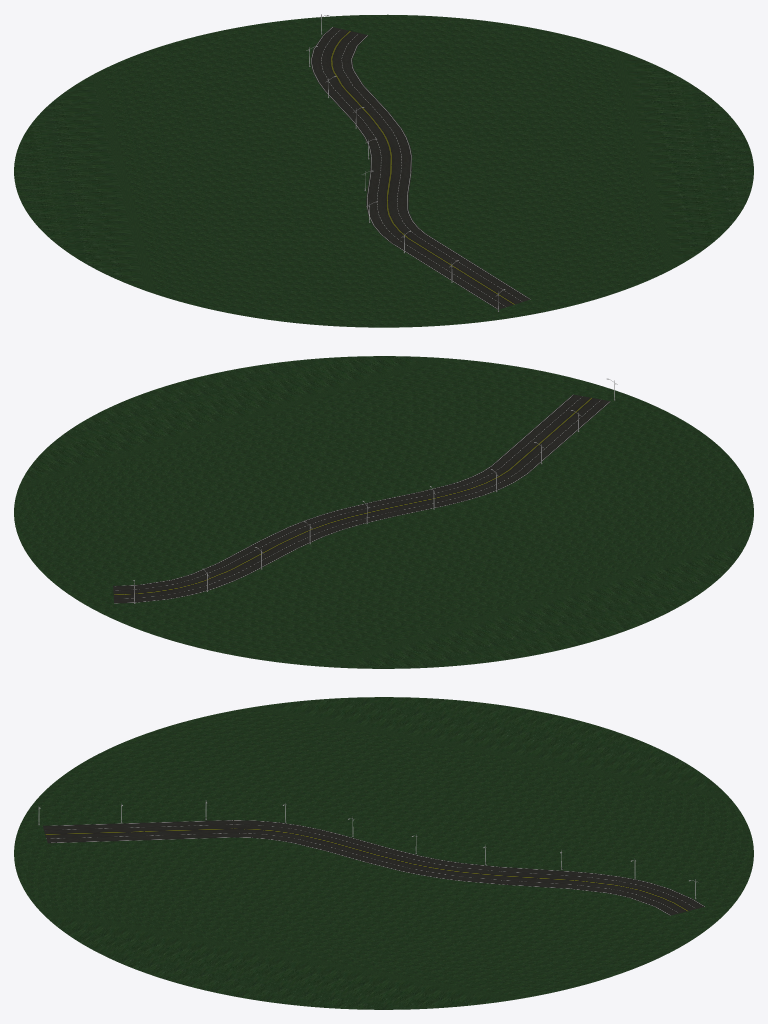
File: svincolo-autostradale.glb
3 renders of one model, top to bottom at view 1: azimuth 30°, elevation 25°; view 2: azimuth 150°, elevation 25°; view 3: azimuth 270°, elevation 25°, orthographic.
Parts seen in each view (by area): view 1: Plane.001_22, Plane_3; view 2: Plane.001_22, Plane_3; view 3: Plane.001_22, Plane_3.
Boxes of the visible parts, left/top/right/bottom form: Plane.001_22: left=14, top=14, right=753, bottom=327; Plane_3: left=310, top=27, right=530, bottom=309; Plane.001_22: left=14, top=356, right=753, bottom=668; Plane_3: left=113, top=394, right=610, bottom=603; Plane.001_22: left=14, top=697, right=753, bottom=1009; Plane_3: left=43, top=820, right=705, bottom=915.
Bounding box in the file's own units: 199 × 6.05 × 199.
4 materials, 2 textured.
